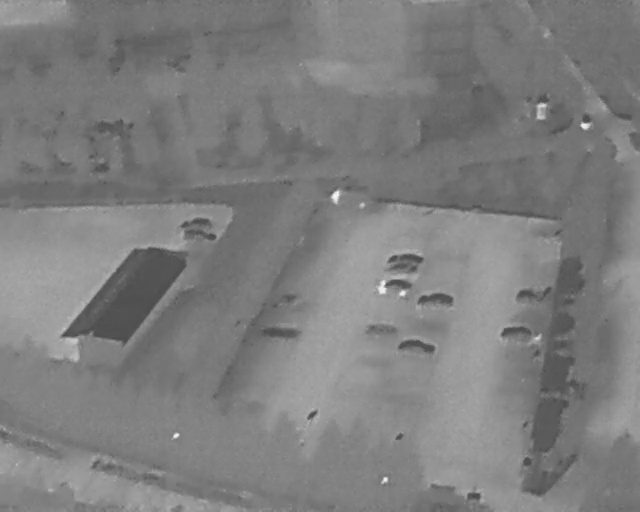Car: (395, 335, 437, 358), (416, 293, 453, 311), (500, 326, 532, 343), (379, 280, 412, 296), (179, 217, 213, 232), (181, 229, 217, 243), (386, 263, 419, 277), (387, 255, 423, 267), (515, 289, 540, 305)
